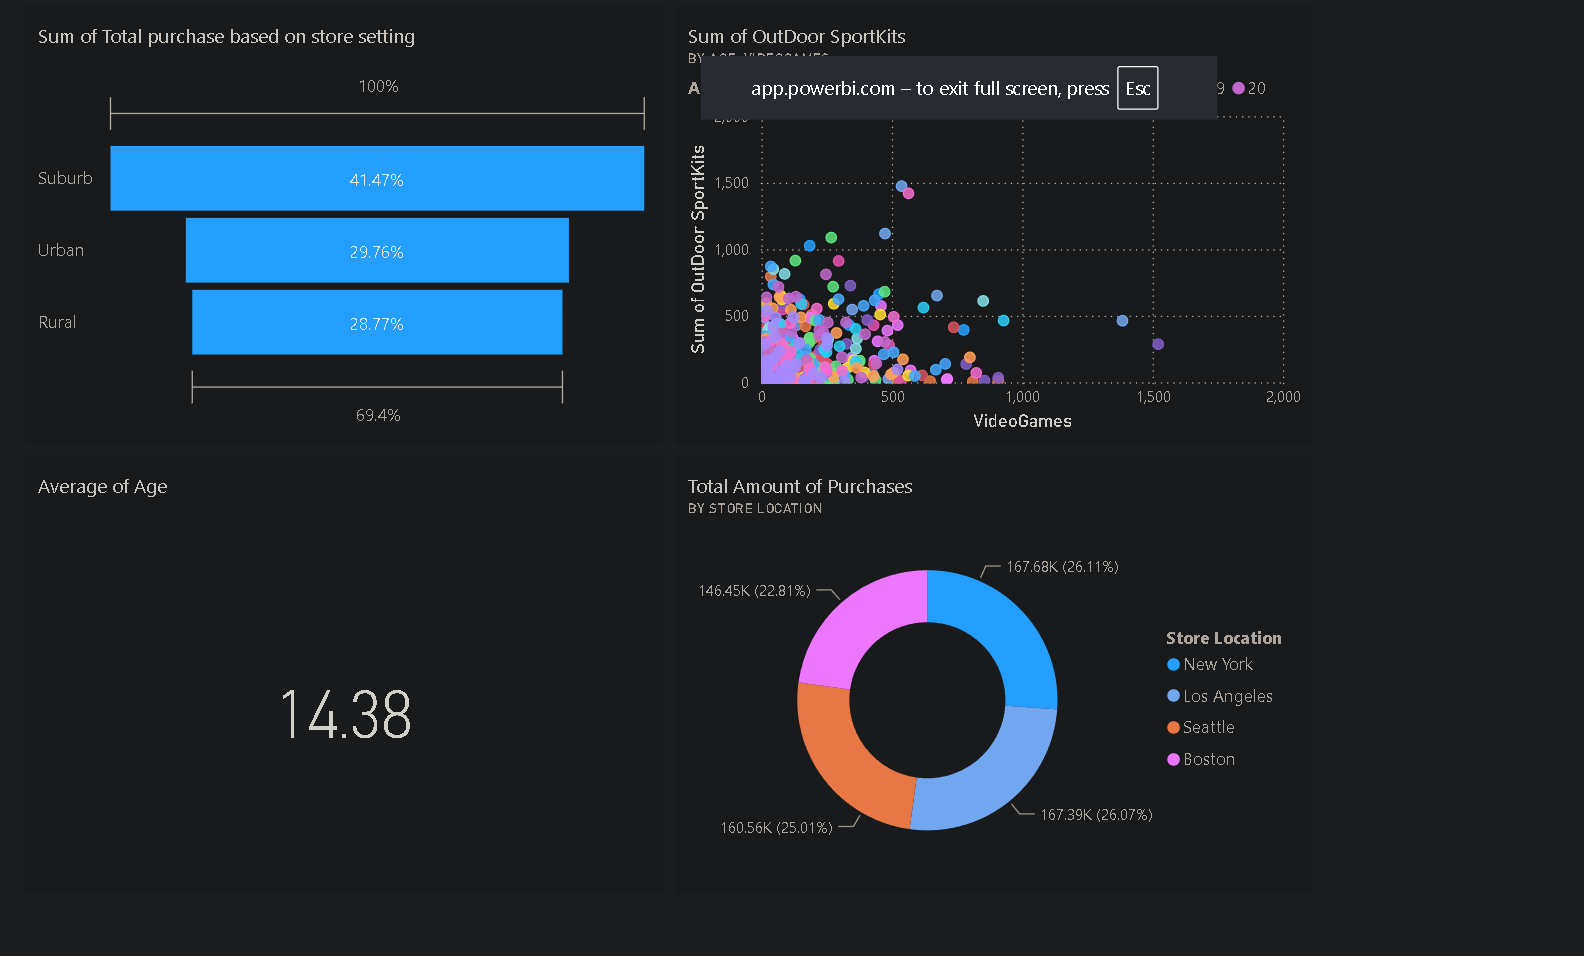

The page's visual inventory and layout, read from the dashboard file:
{"tool":"powerbi","page":{"name":"Page 1","canvas":[1280,720],"ordinal":0},"visuals":[{"type":"tableEx","fields":{"Values":["Student Survey.Store Setting","Student Survey.Store Location","Sum(Student Survey.Total Amount of Purchases)"]},"box":[16.3,37.2,420.9,332.6],"z":0},{"type":"pivotTable","fields":{"Rows":["Student Survey.Age"],"Values":["Sum(Student Survey.Total Amount of Purchases)","Sum(Student Survey.OutDoor SportKits)"],"Columns":["Student Survey.Store Setting"]},"box":[16.3,387.2,1254.7,332.6],"z":1000},{"type":"funnel","title":"Sum of Total purchase based on store setting","fields":{"Y":["Sum(Student Survey.Total Amount of Purchases)"],"Category":["Student Survey.Store Setting"]},"box":[448.8,37.2,420.9,332.6],"z":2000},{"type":"pieChart","title":"Suburban pie chart","fields":{"Category":["Student Survey.Store Location"],"Y":["Sum(Student Survey.Total Amount of Purchases)"],"Series":["Student Survey.Store Setting"]},"box":[877.9,37.2,393,332.6],"z":3000}]}

Visuals, with their boxes on the page's 1280x720 design canvas (x1, y1, x2, y2). These are canvas units, not pixel positions in the 1584x956 screenshot, which may show the page scaled, cropped or inside an application window:
tableEx - Student Survey.Store Setting x Student Survey.Store Location: [16,37,437,370]
pivotTable - Student Survey.Age x Sum(Student Survey.Total Amount of Purchases): [16,387,1271,720]
"Sum of Total purchase based on store setting" funnel: [449,37,870,370]
"Suburban pie chart" pieChart: [878,37,1271,370]
